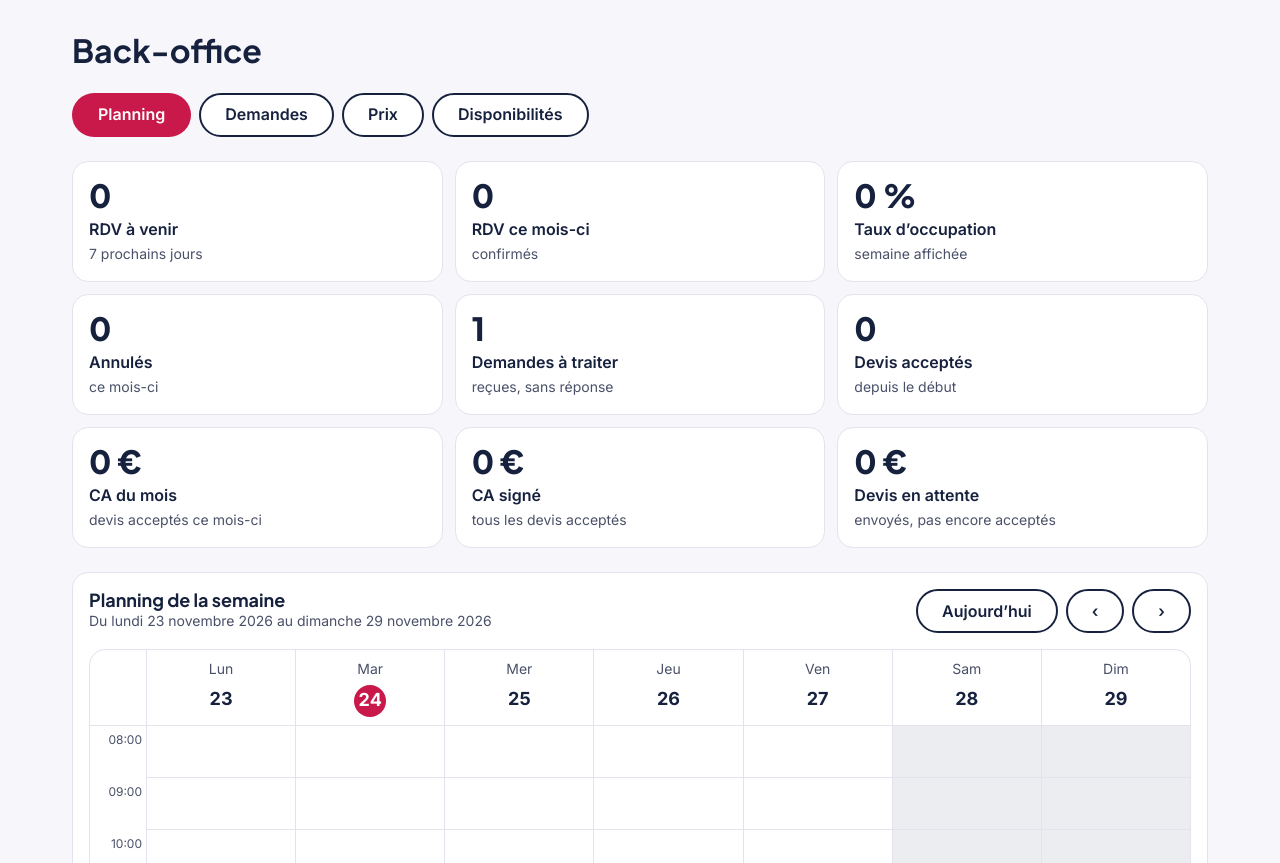
Back-office : demandes › enregistre le statut
Click the button "Demandes".
click(267, 115)  # box [199, 93, 334, 137]
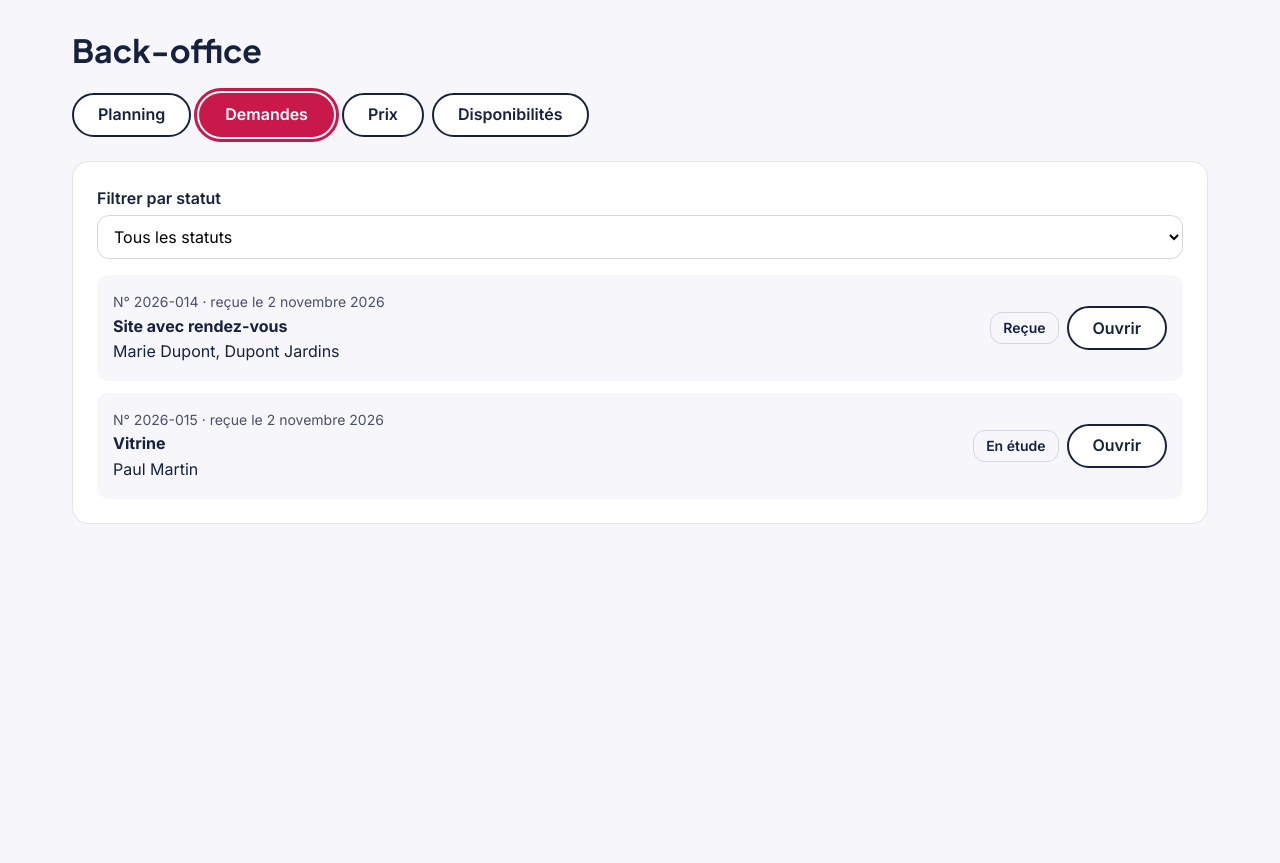
Click the button with aria-label "Ouvrir la demande 2026-014".
click(1117, 328)  # box [1066, 306, 1167, 350]
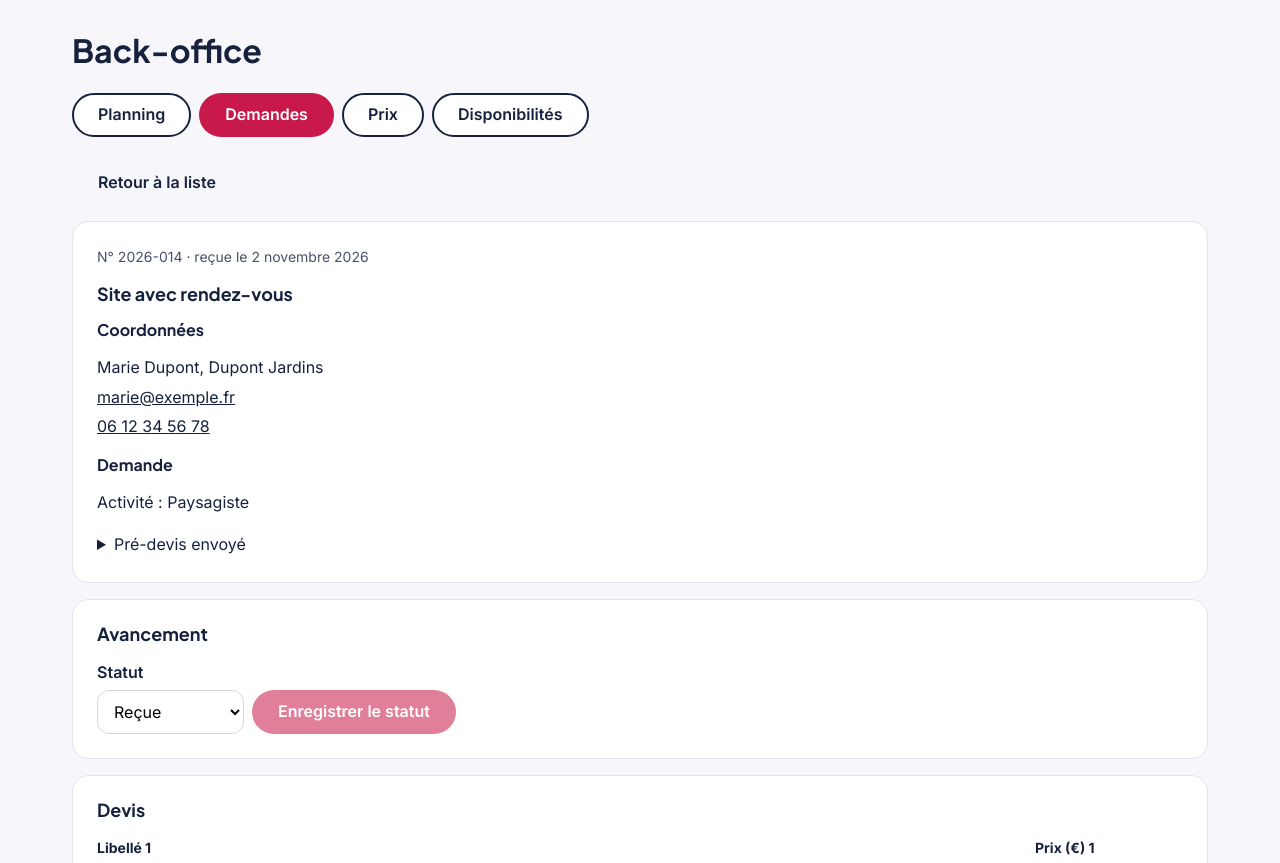
Expected: the heading "Site avec rendez-vous" is shown, [97, 282, 293, 305]
Select "En étude" in the dropdown labelled "Statut" at [170, 712], box [97, 690, 244, 734]
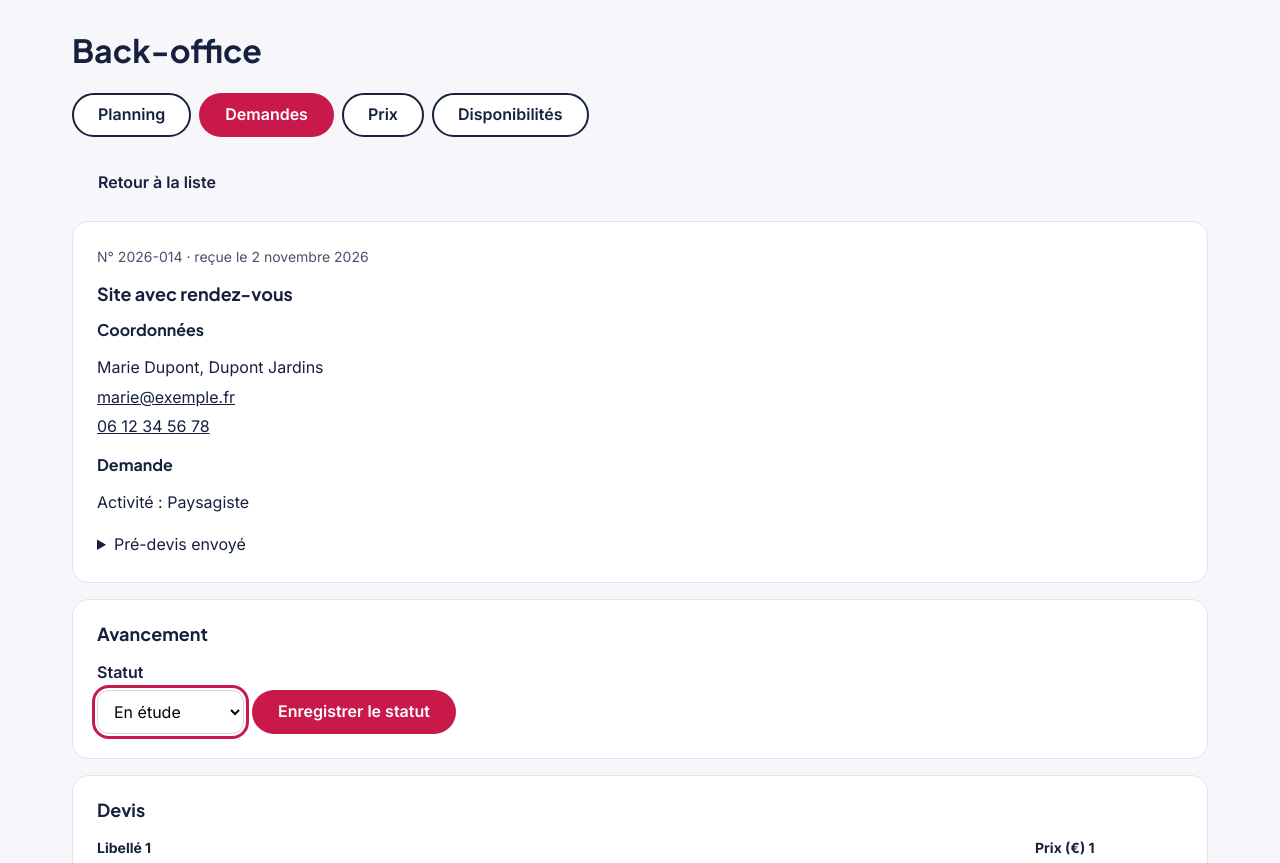
Click the button "Enregistrer le statut".
click(354, 712)  # box [252, 690, 456, 734]
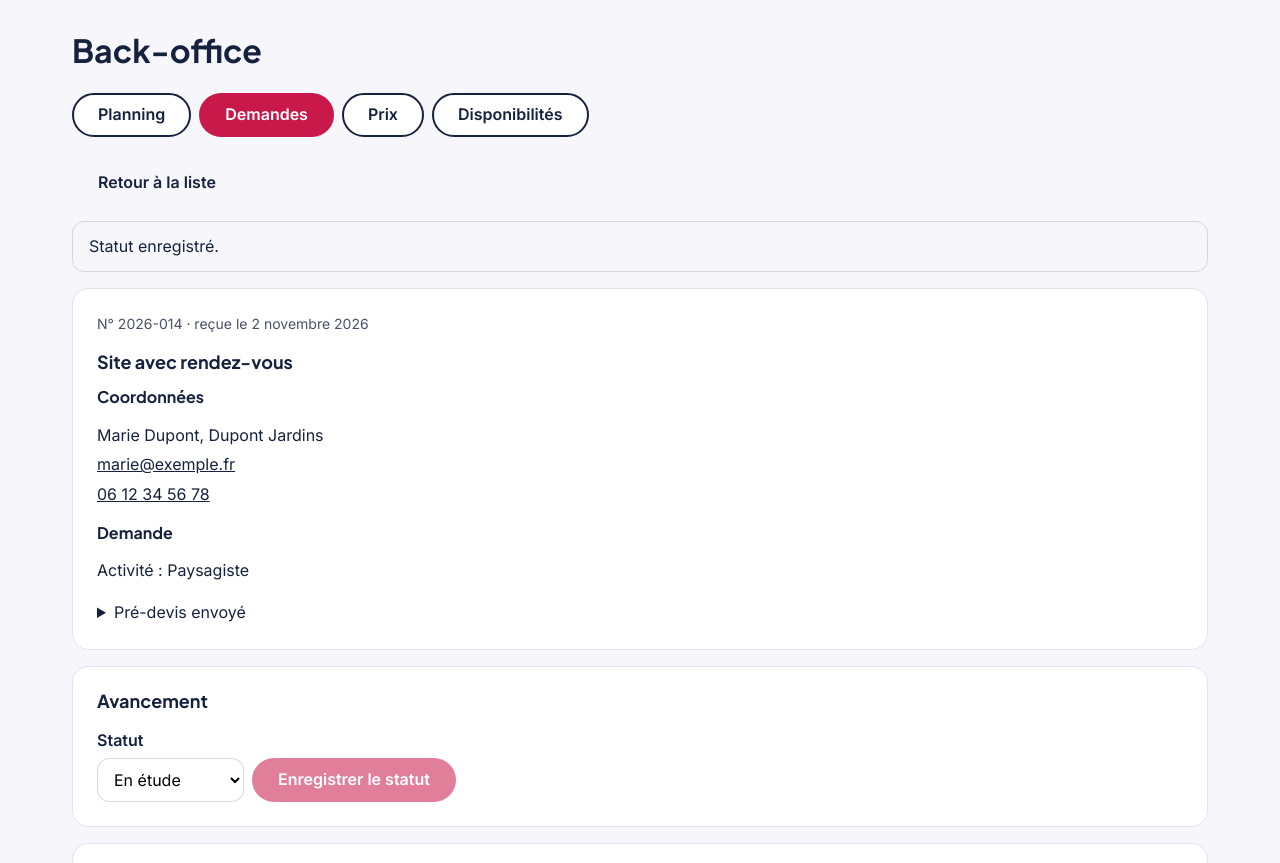
Expected: the message reads "Statut enregistré.", [89, 236, 219, 256]
